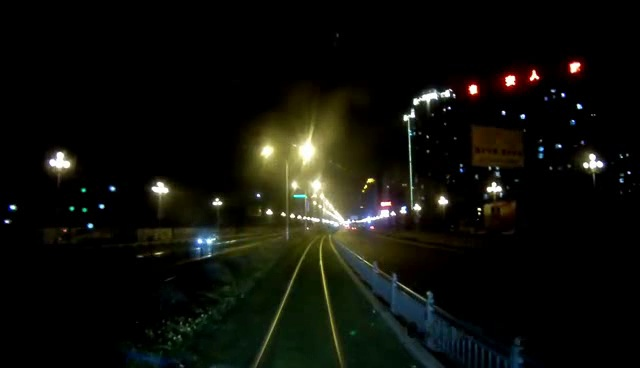car: (190, 233, 226, 253)
